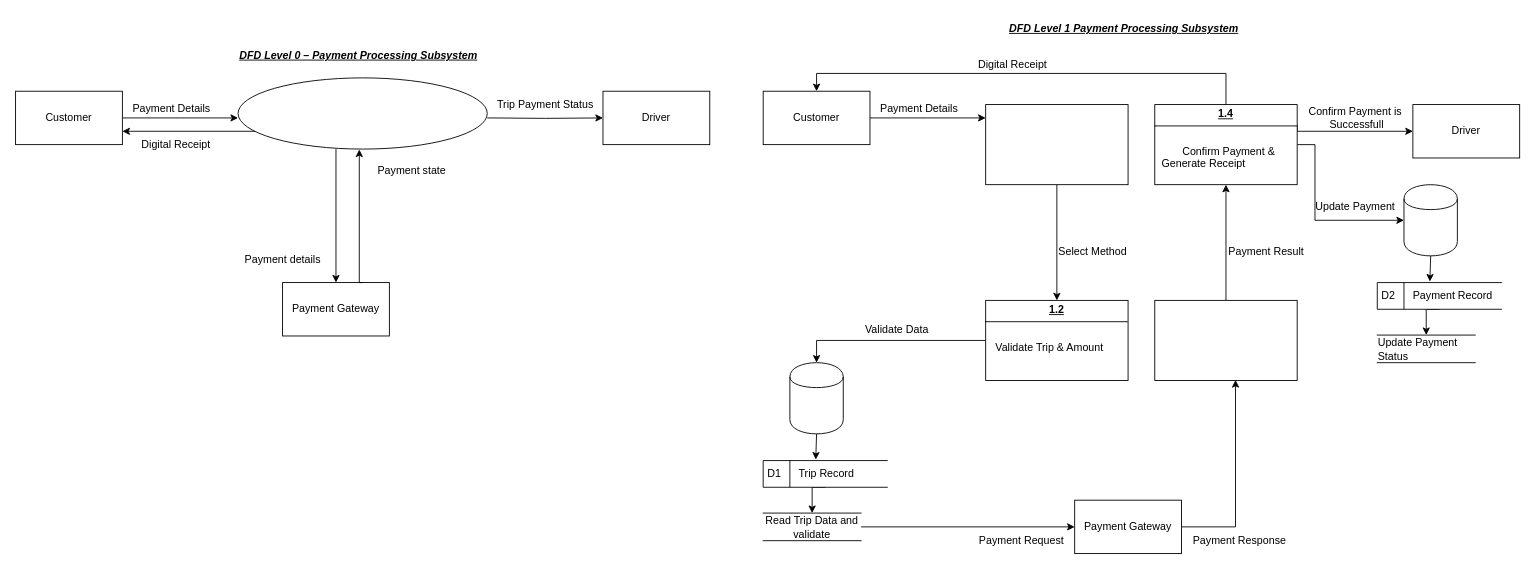
The diagram is 1535 pixels wide and 569 high, and some of its shapes have lost their labels. Each missing label, with the centre of its shape:
"1.1 Select Payment Method" belongs at point (1056, 144).
"1.3 Process online payment" belongs at point (1225, 339).
"Payment DB" belongs at point (1430, 220).
"Transportation Booking System" belongs at point (362, 113).
"Trips DB" belongs at point (816, 398).
